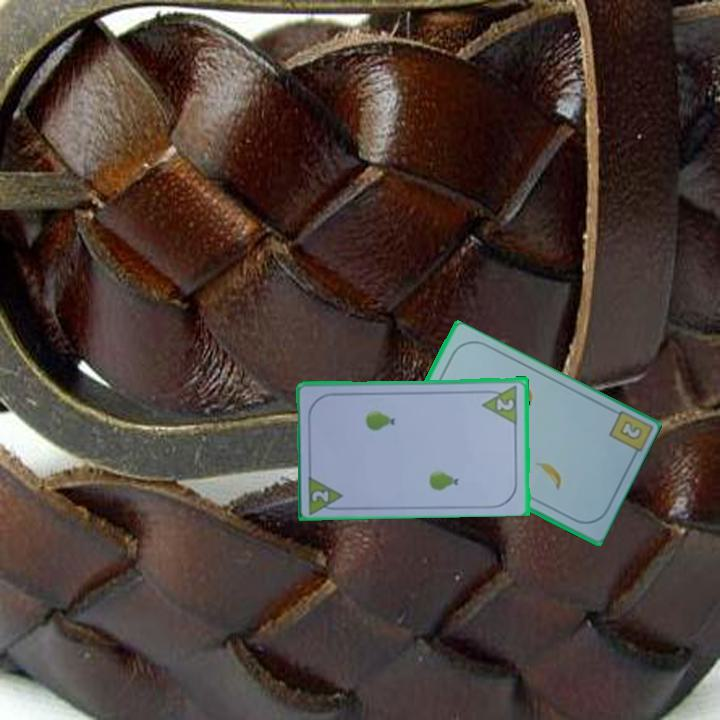2b: (616, 417, 645, 443)
2p: (493, 395, 517, 413), (308, 487, 332, 504)
